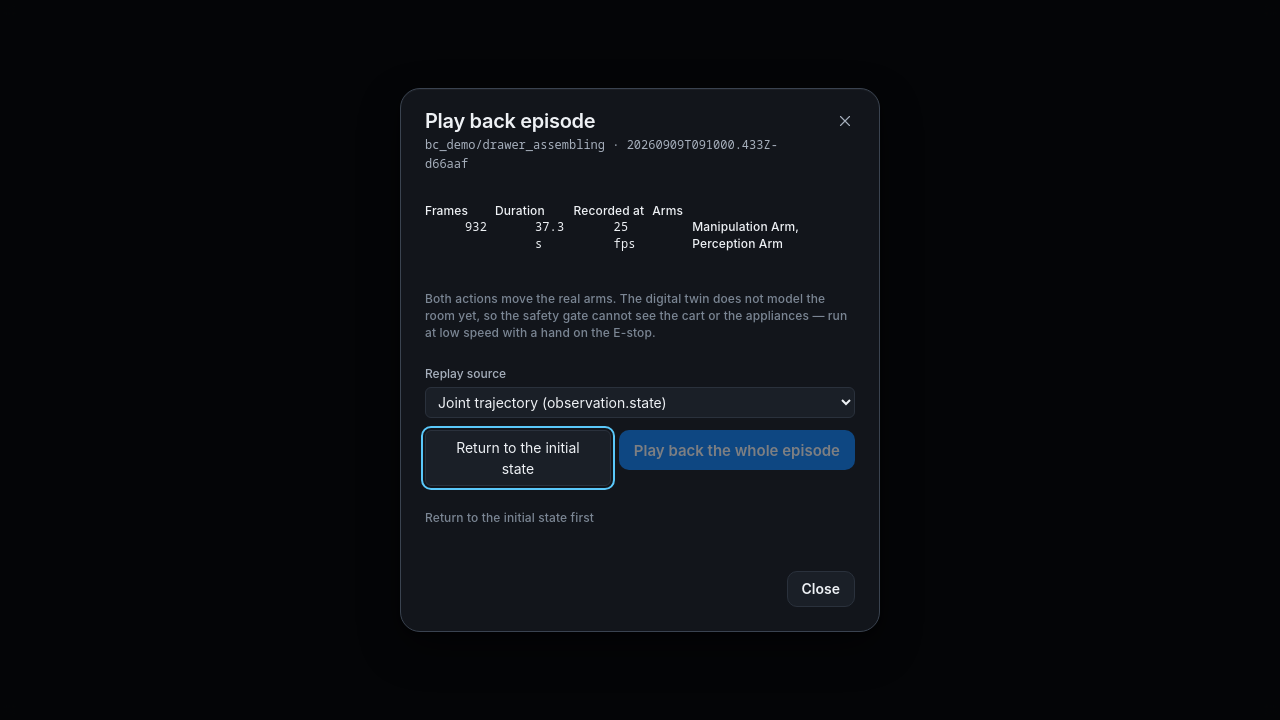
Test case: PlaybackDialog › a refused action replay shows the runtime's reason, unprefixed
Expected: the element with test id "playback-meta" is shown, [425,200,855,255]
Click the button with test id "playback-goto-initial".
click(518, 458)  # box [425,430,611,486]
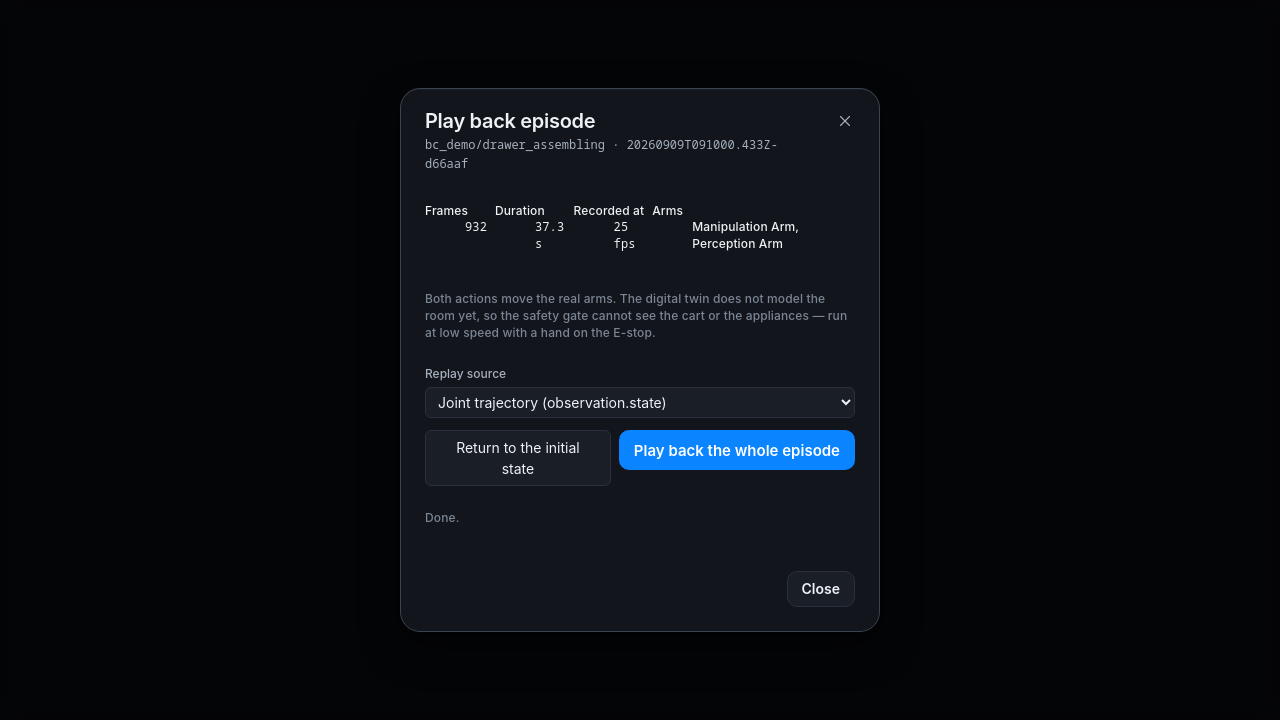
Expected: the button with test id "playback-play" is enabled, [619,430,855,470]
Select "Absolute EE actions (action.abs_ee)" in the dropdown with test id "playback-source" at coordinates (640, 403), box [425,387,855,418]
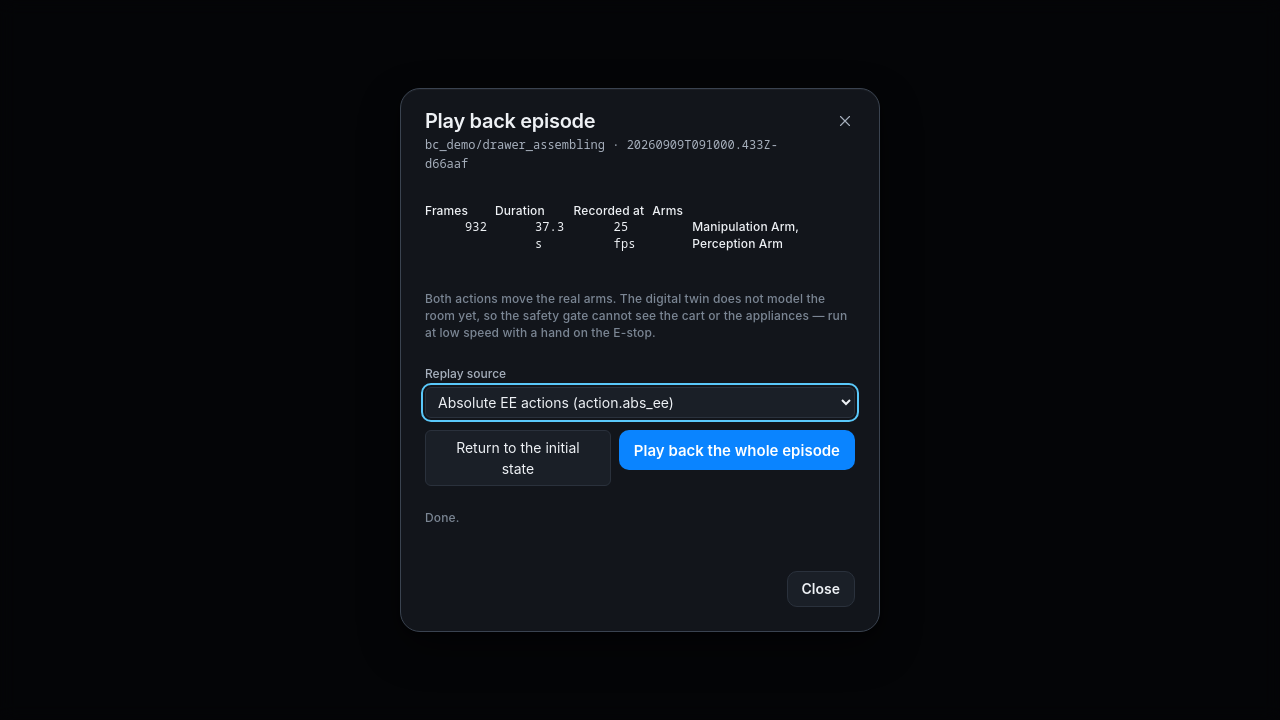
Click the button with test id "playback-play".
click(737, 450)  # box [619,430,855,470]
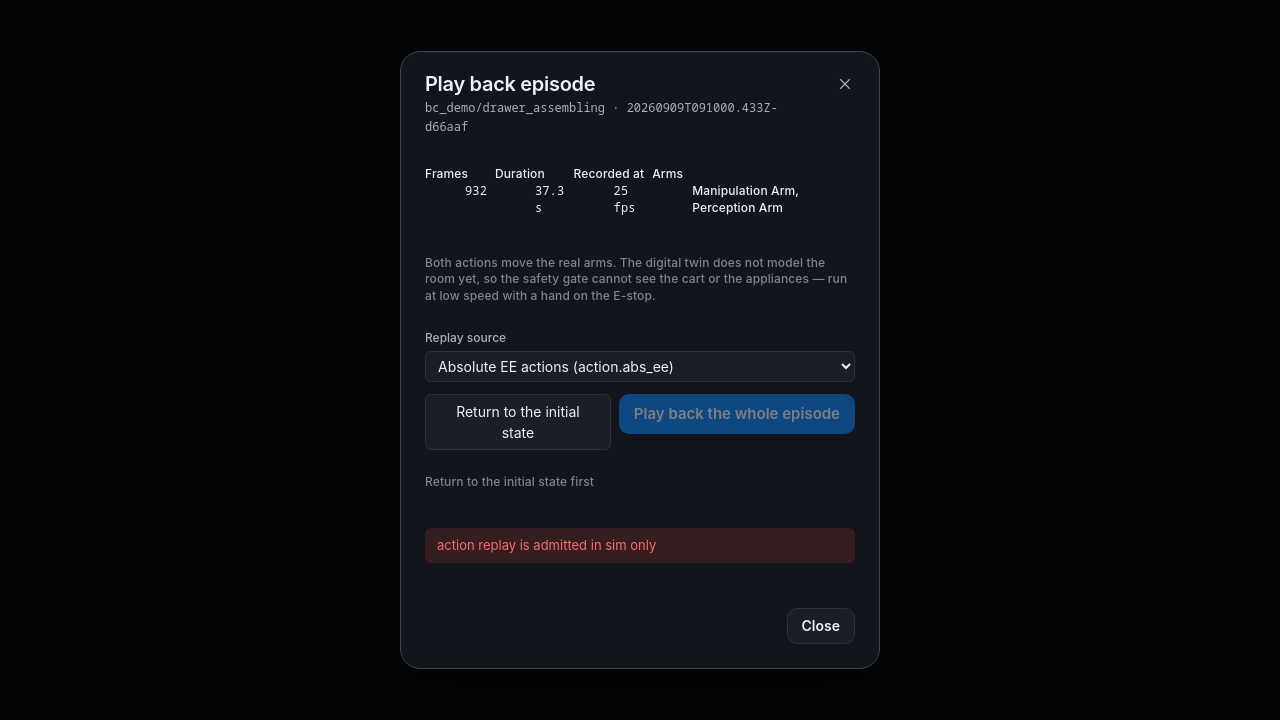
Expected: the message with test id "playback-outcome" does not show "Finished", [425,528,855,562]
Expected: the message with test id "playback-outcome" reads "action replay is admitted in sim only", [437,537,656,553]
